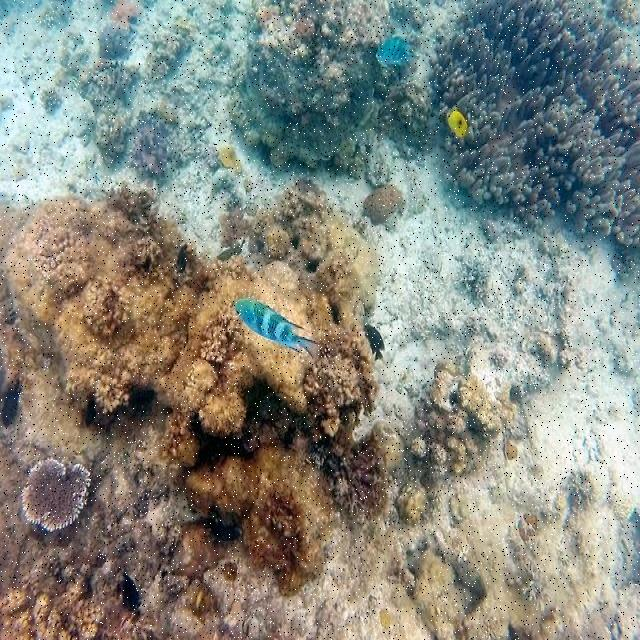fish: (233, 299, 319, 359), (376, 36, 419, 67), (447, 107, 474, 140), (363, 324, 385, 361)
reefs: (0, 177, 601, 639), (40, 0, 639, 281)
